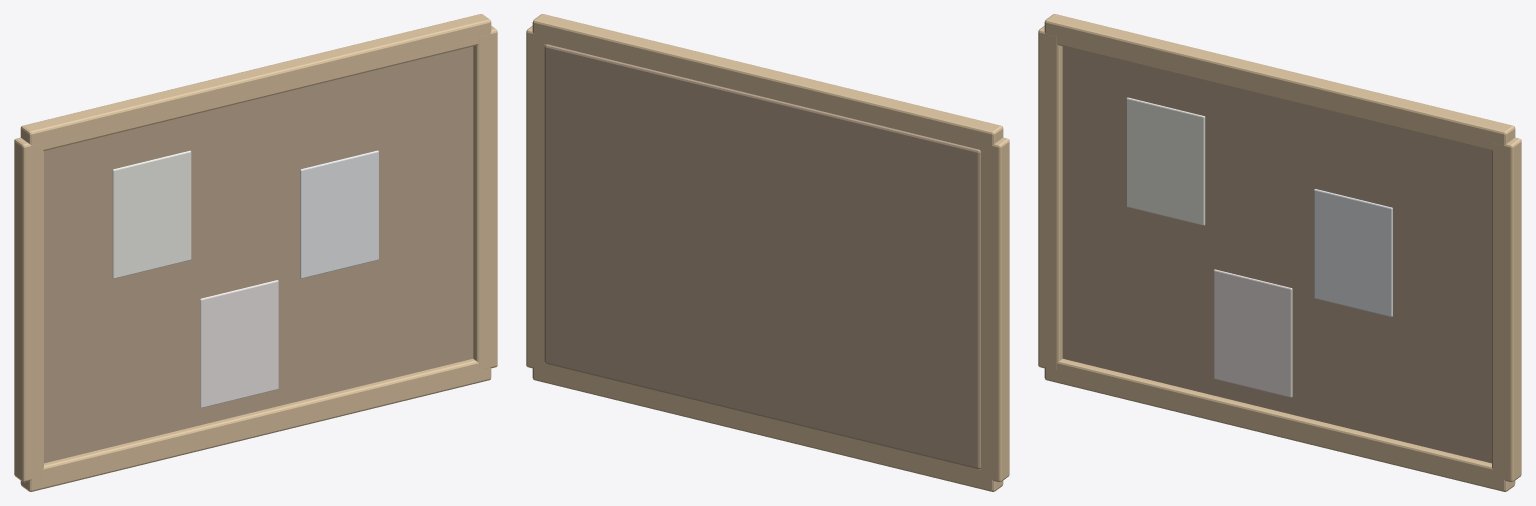
File: bulletin_board.glb
3 renders of one model, left to right at view 1: azimuth 30°, elevation 25°; view 2: azimuth 150°, elevation 25°; view 3: azimuth 330°, elevation 25°, orthographic.
Visible parts, largest first — view 1: bb_board, bb_frame_t, bb_frame_b, bb_frame_l, bb_paper0, bb_paper1, bb_paper2, bb_frame_r; view 2: bb_board, bb_frame_t, bb_frame_l, bb_frame_b, bb_frame_r; view 3: bb_board, bb_frame_t, bb_frame_b, bb_frame_r, bb_paper0, bb_paper2, bb_paper1, bb_frame_l.
Boxes of the visible parts, bbox=[...] form: bb_board: bbox=[44, 46, 473, 463]; bb_frame_t: bbox=[20, 14, 491, 150]; bb_frame_b: bbox=[20, 359, 491, 491]; bb_frame_l: bbox=[14, 137, 43, 482]; bb_paper0: bbox=[112, 150, 191, 278]; bb_paper1: bbox=[300, 150, 378, 278]; bb_paper2: bbox=[200, 280, 278, 408]; bb_frame_r: bbox=[473, 26, 497, 369]; bb_board: bbox=[544, 44, 980, 469]; bb_frame_t: bbox=[532, 14, 1003, 152]; bb_frame_l: bbox=[980, 137, 1009, 482]; bb_frame_b: bbox=[532, 360, 1003, 491]; bb_frame_r: bbox=[526, 26, 545, 369]; bb_board: bbox=[1062, 46, 1491, 463]; bb_frame_t: bbox=[1044, 14, 1515, 150]; bb_frame_b: bbox=[1044, 359, 1515, 491]; bb_frame_r: bbox=[1492, 137, 1521, 482]; bb_paper0: bbox=[1126, 97, 1205, 225]; bb_paper2: bbox=[1213, 269, 1292, 397]; bb_paper1: bbox=[1314, 189, 1392, 316]; bb_frame_l: bbox=[1038, 26, 1062, 369].
Bounding box in the file's own units: 1.09 × 0.79 × 0.0475.
